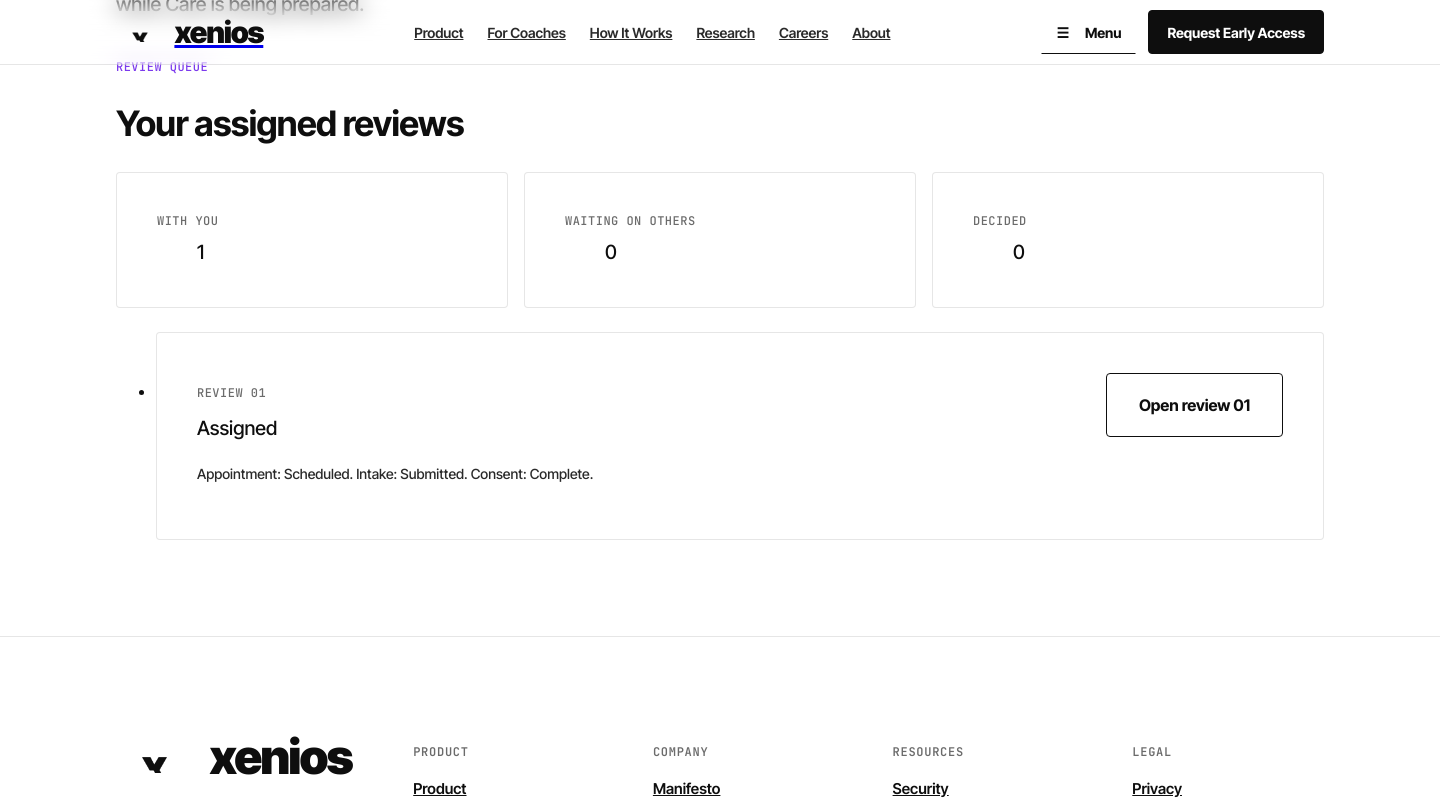
Test: Care clinician review queue, states › reports a review that is not the clinician's own as unavailable
(page scrolled)
Click the button "Open review 01". click: (1194, 405)
box: left=1106, top=373, right=1283, bottom=437
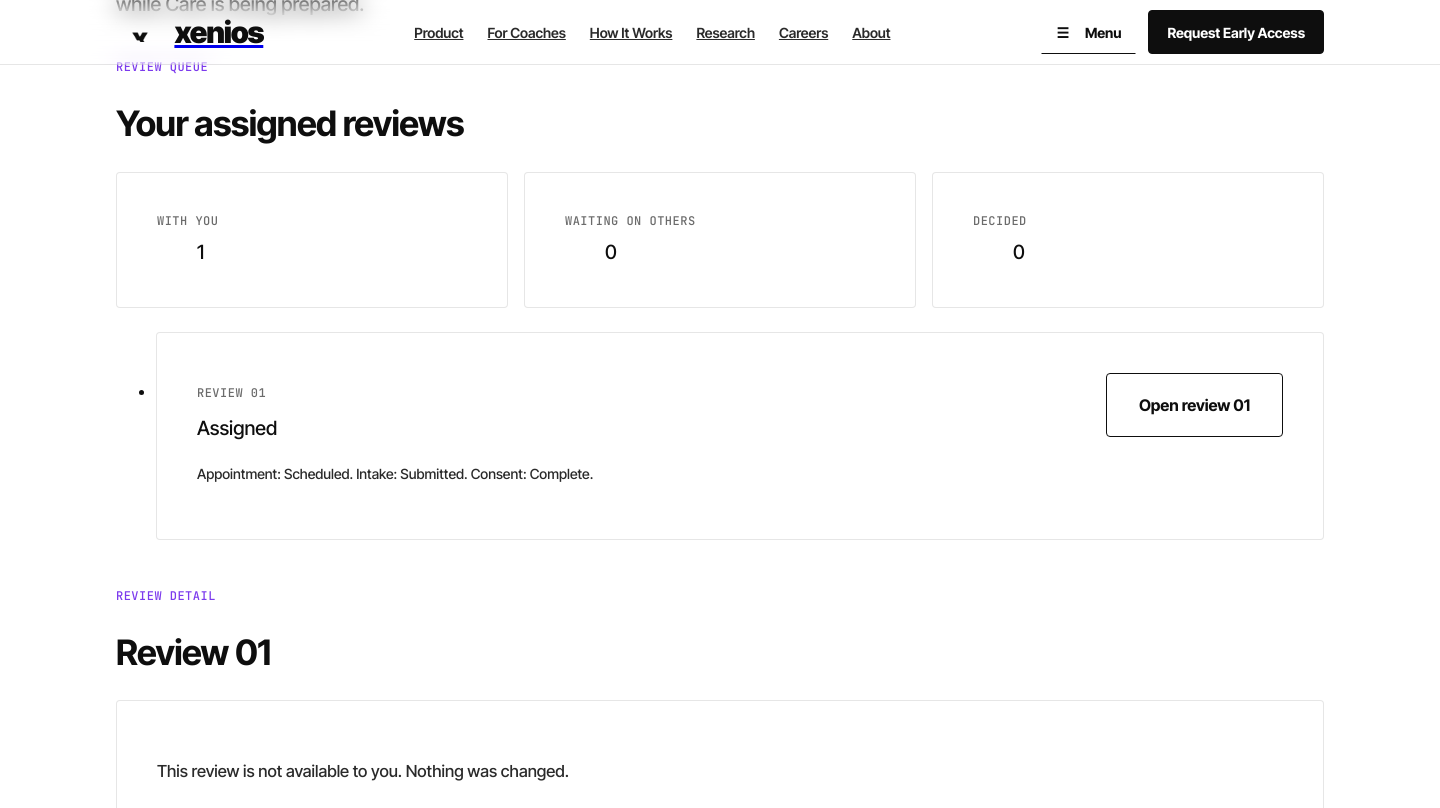
Result: the text "This review is not available to you." is shown at left=157, top=761, right=569, bottom=781
